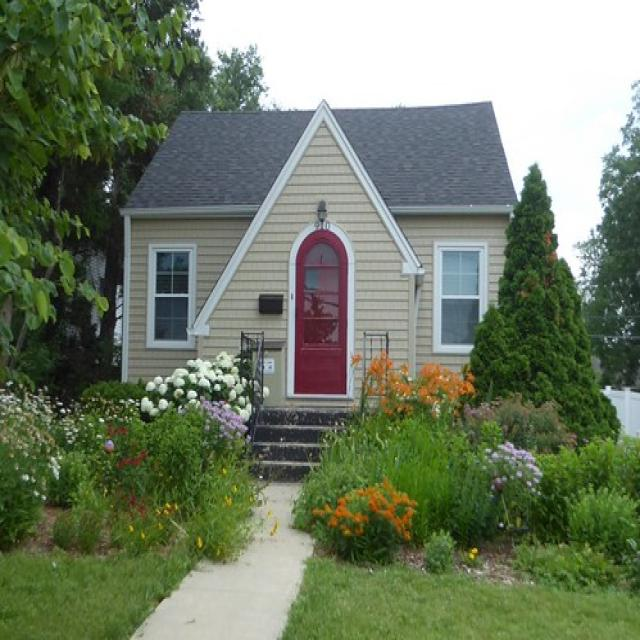building: (115, 94, 526, 478)
